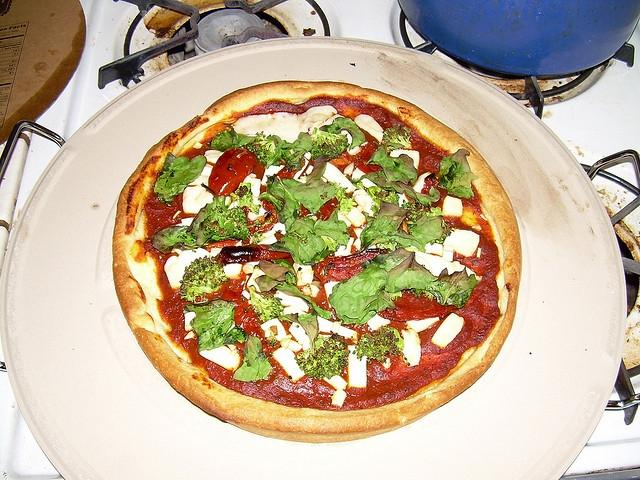broccoli: (258, 154, 339, 224), (294, 310, 351, 379), (184, 300, 248, 352), (154, 152, 207, 206), (178, 255, 230, 302), (352, 327, 404, 364), (308, 127, 350, 160), (210, 123, 256, 152), (249, 284, 284, 322), (437, 161, 478, 190), (247, 131, 277, 165), (235, 183, 261, 214), (382, 125, 412, 148), (334, 188, 358, 216), (430, 218, 452, 245), (401, 199, 424, 222)
